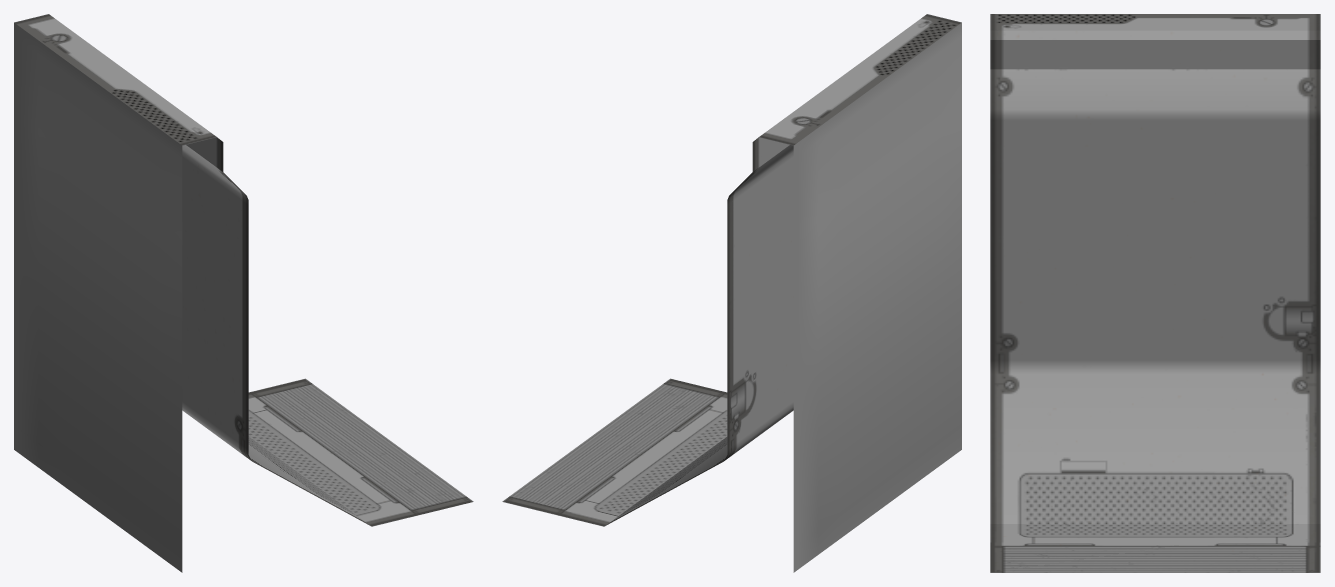
Rendered from A_Wall_Simple_2x2.FBX.
The picture shows the model from 3 angles, left to right: view 1: azimuth 30°, elevation 25°; view 2: azimuth 150°, elevation 25°; view 3: azimuth 270°, elevation 25°; orthographic projection.
Parts seen in each view (by area): view 1: A_Wall_Simple_2x2; view 2: A_Wall_Simple_2x2; view 3: A_Wall_Simple_2x2.
Boxes of the visible parts, x1,y1,x2,y2 form: A_Wall_Simple_2x2: [14, 14, 473, 572]; A_Wall_Simple_2x2: [502, 14, 961, 572]; A_Wall_Simple_2x2: [990, 14, 1320, 572].
Size of the model in its own units: 200 by 280 by 200.
